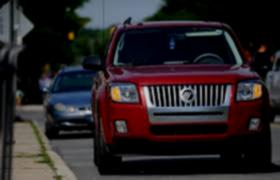Mercury: (176, 86, 205, 106)
